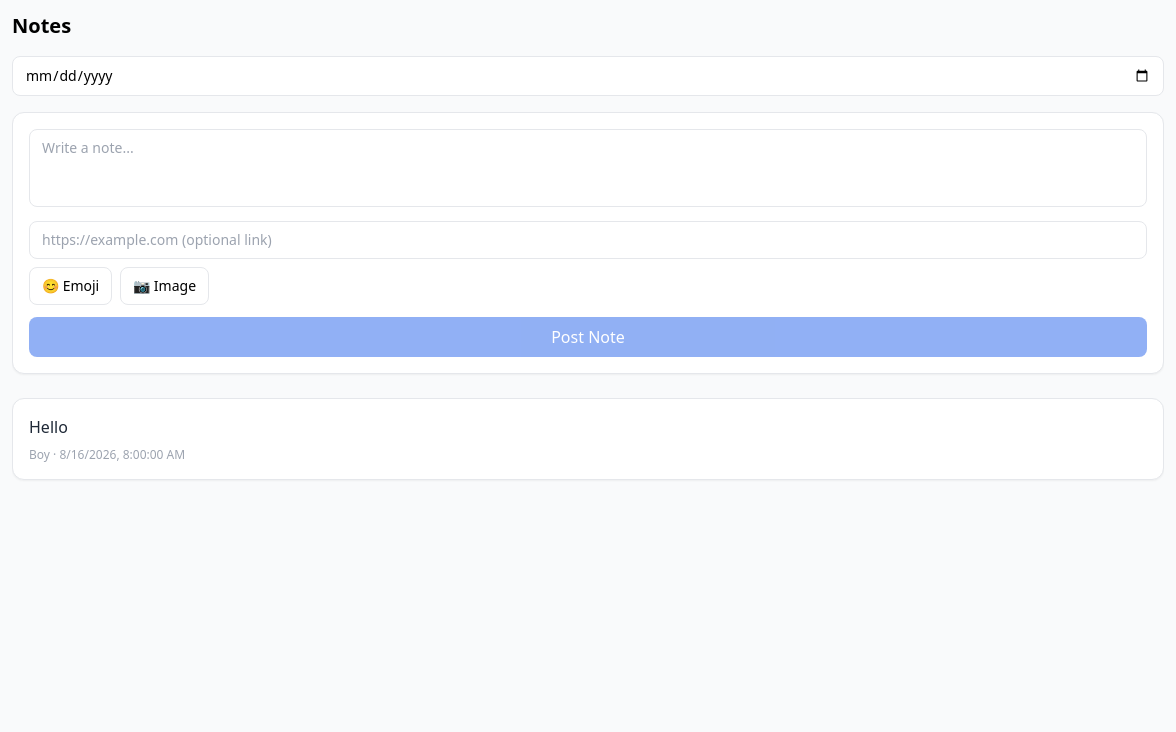
Test: NotesPage › opens emoji picker and appends an emoji to the textarea
What coordinates should you click on to do the following:
click the button with aria-label "open emoji picker"
I would click on:
 (71, 286)
Its box is [29,267,112,305].
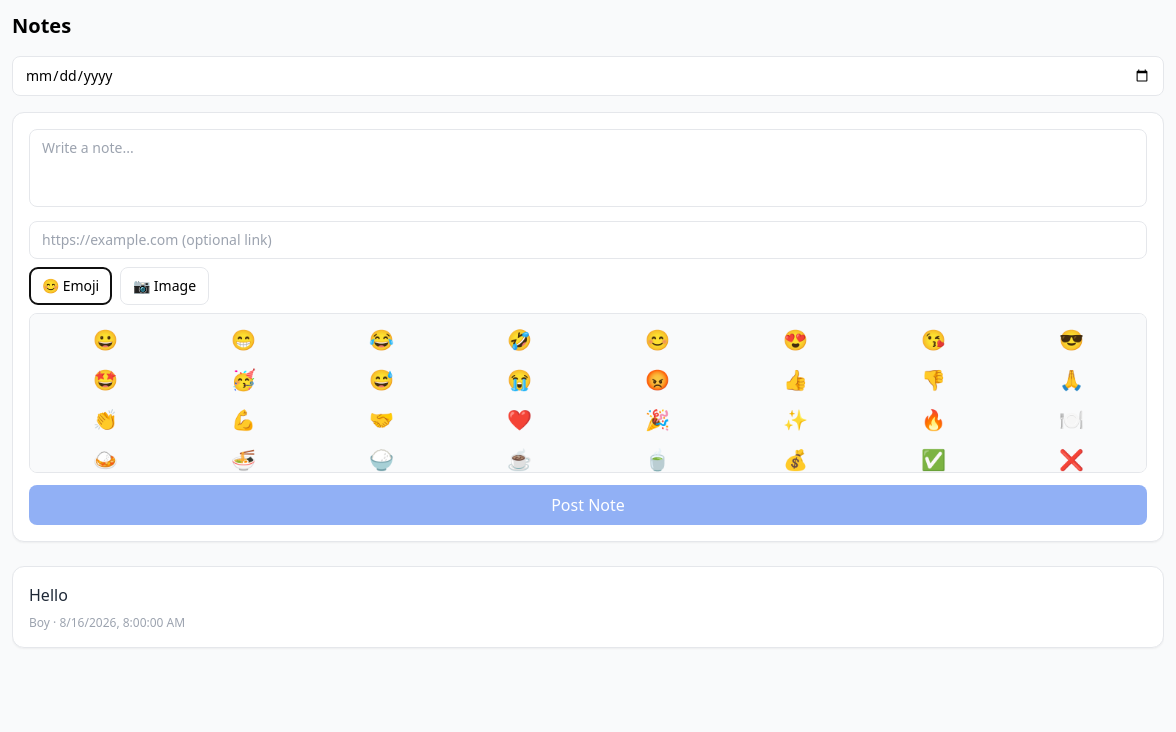
What coordinates should you click on to do the following:
click the button named "Add 😀"
I would click on:
 (105, 340)
Its box is [38,322,172,358].
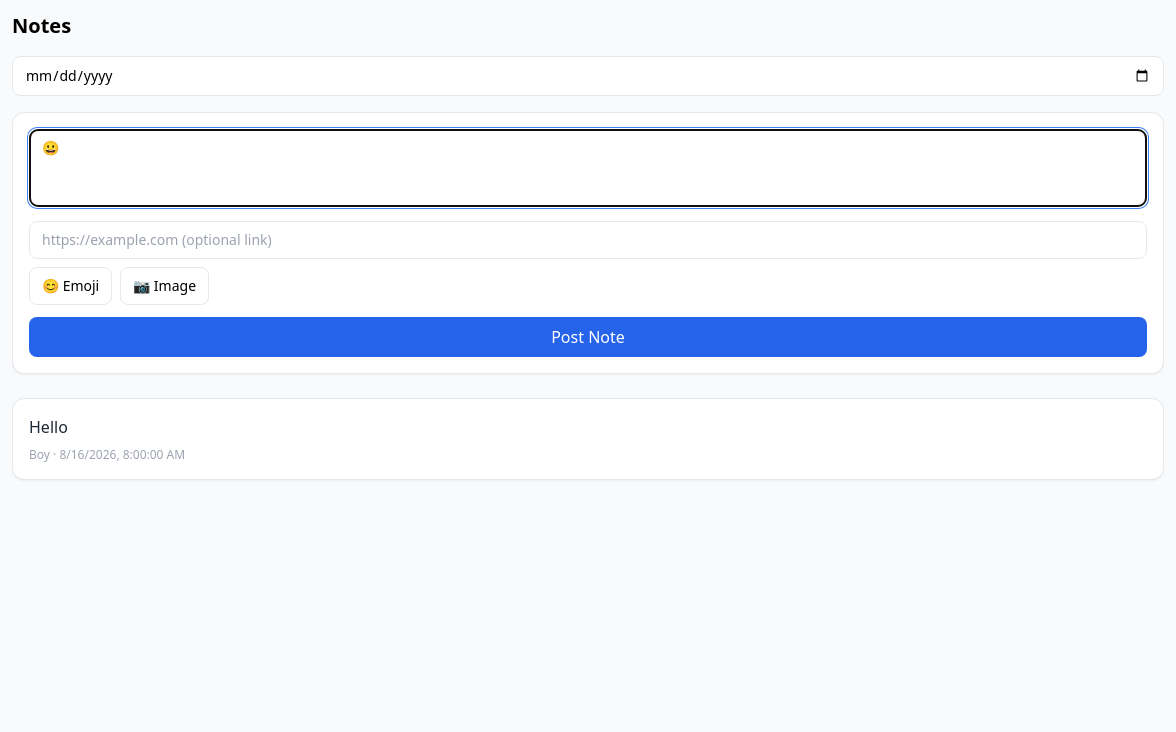
Expected: the text box with placeholder "Write a note..." holds "😀", [29,129,1147,207]
